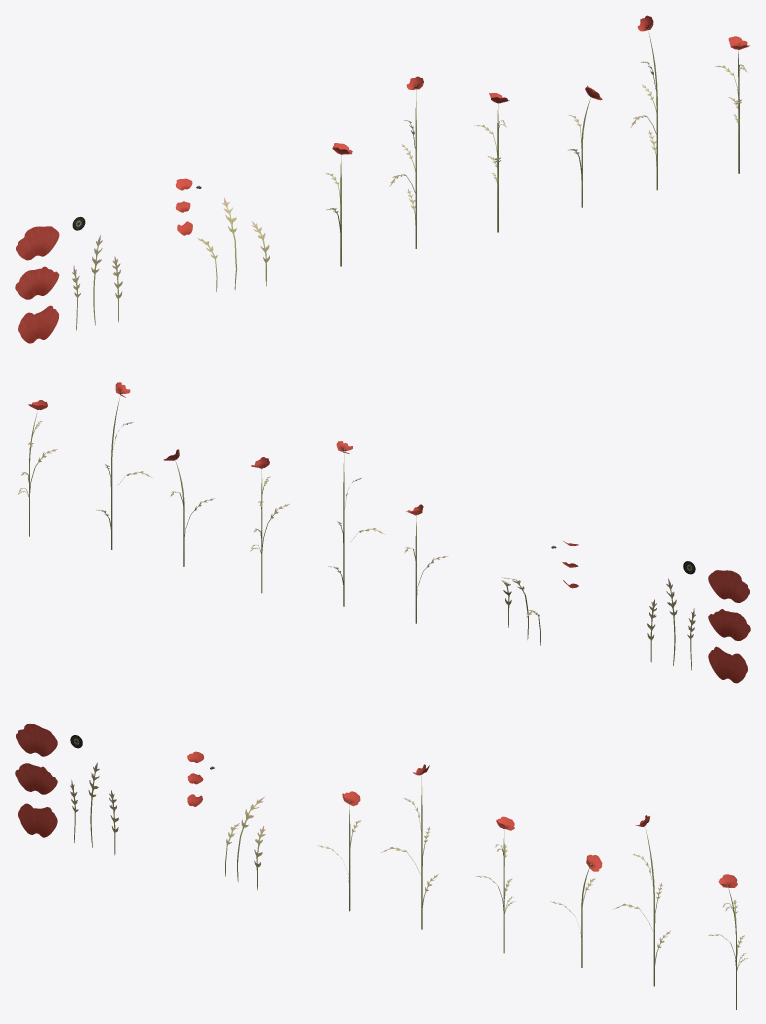
File: pine_medium_01.glb
The picture shows the model from 3 angles, top to bottom: view 1: azimuth 30°, elevation 25°; view 2: azimuth 150°, elevation 25°; view 3: azimuth 330°, elevation 25°; orthographic projection. The views are drawn at different scales.
Visible parts, largest first — view 1: pine_medium_01; view 2: pine_medium_01; view 3: pine_medium_01.
Part boxes in pixels (x1,y1,x2,y2): pine_medium_01: [15, 15, 749, 343]; pine_medium_01: [17, 382, 750, 683]; pine_medium_01: [15, 723, 747, 1009].
Size of the model in its own units: 11.98 by 2.8 by 0.893.
Materials: 1 (1 with a texture image).
